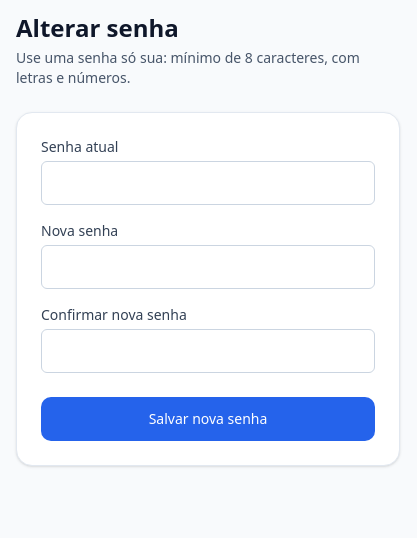
Test: ChangePasswordPage › sucesso: mostra confirmação e zera tempPassword na sessão
The image size is (417, 538).
Type "temporaria1" into the password field labelled "Senha atual" at (208, 183), box [41,161,375,205]
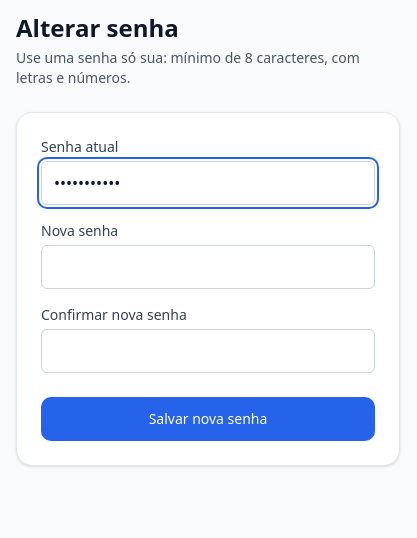
Type "novaSenha123" into the password field labelled "Nova senha" at (208, 267), box [41,245,375,289]
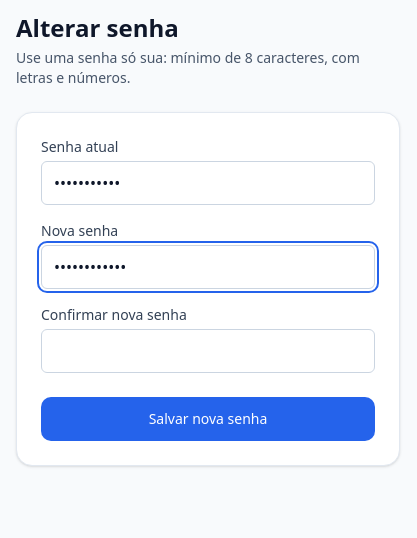
Type "novaSenha123" into the password field labelled "Confirmar nova senha" at (208, 351), box [41,329,375,373]
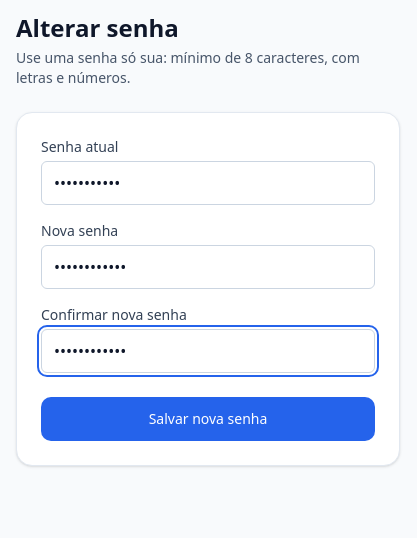
Click the button "Salvar nova senha" at (208, 419), box [41,397,375,441]
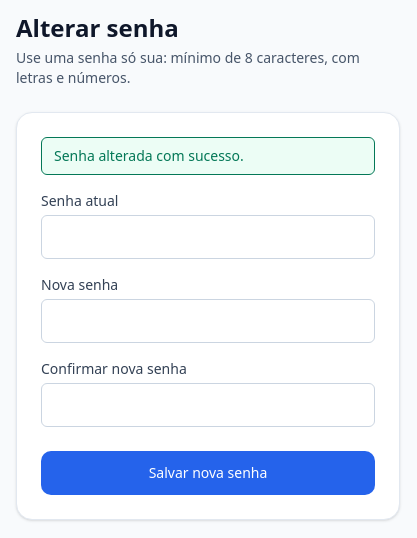
Now the text "Senha alterada com sucesso." is shown, box [41,137,375,175]
